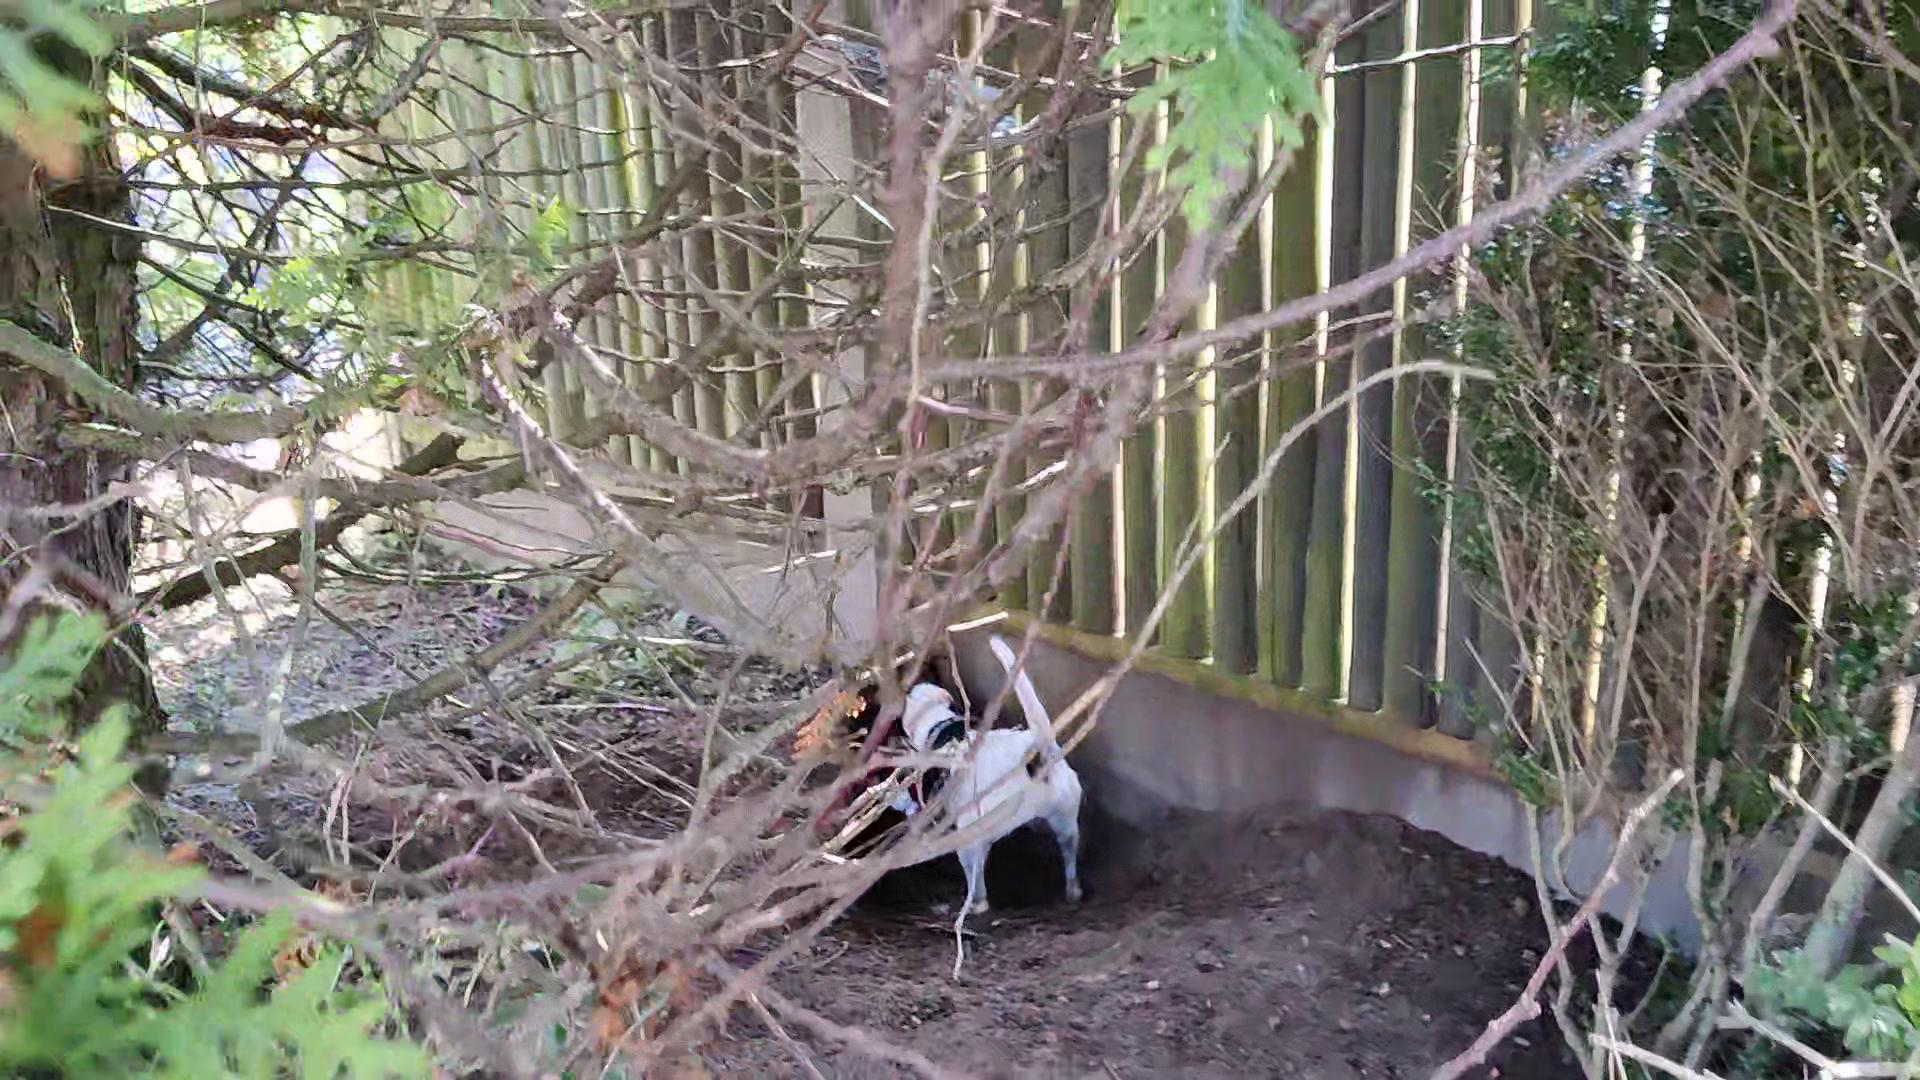Dog: (837, 622, 1098, 923)
